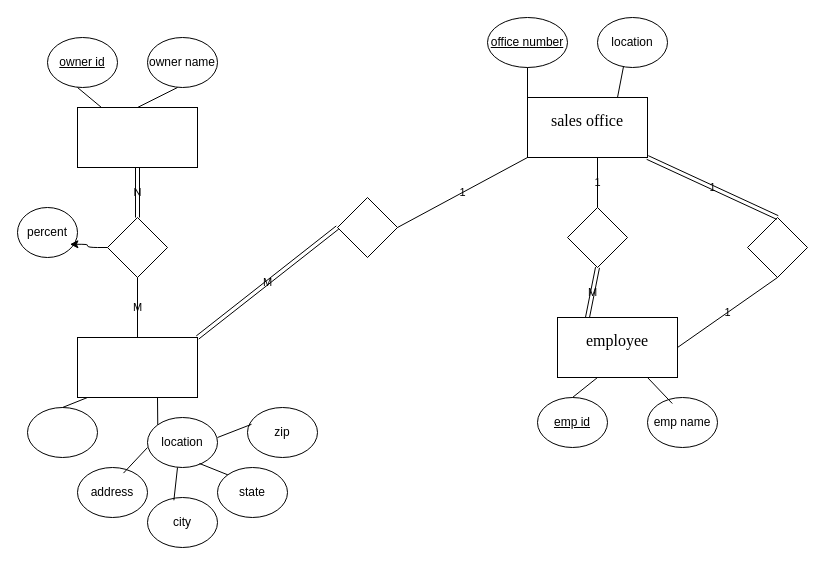
Some shapes in this 825 by 565 pixel diagram are drawn without their labels. Here are the shapes that lost their labels. From the top down, the centre of each, then its label:
At (137,137): "owners".
At (137,247): "own".
At (367,227): "have".
At (597,237): "work".
At (777,247): "manage".
At (137,367): "property".
At (62,432): "property id".
